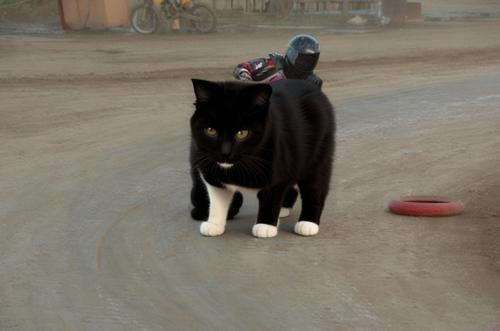cat: (189, 79, 336, 237)
motorbike: (130, 1, 217, 35)
person: (194, 35, 334, 226)
person/foot: (263, 200, 299, 226), (194, 164, 208, 186)
person/hand: (320, 132, 334, 153), (239, 74, 251, 89)
person/head: (284, 34, 321, 78)
